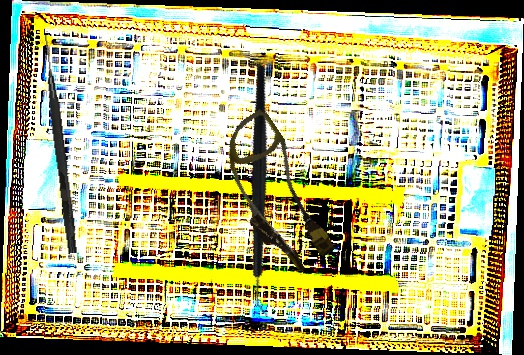Cannula: (200, 107, 352, 280)
Chopper: (172, 63, 356, 319)
Hook Surgical: (37, 34, 81, 254)
